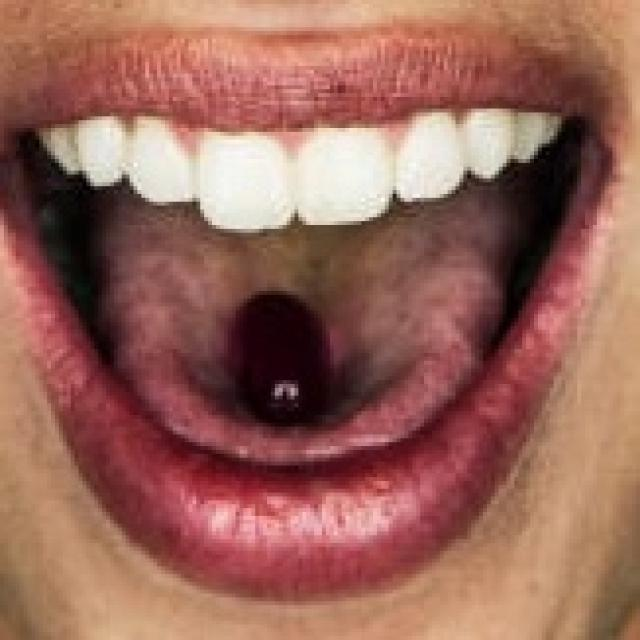open-mouth: (0, 23, 620, 601)
